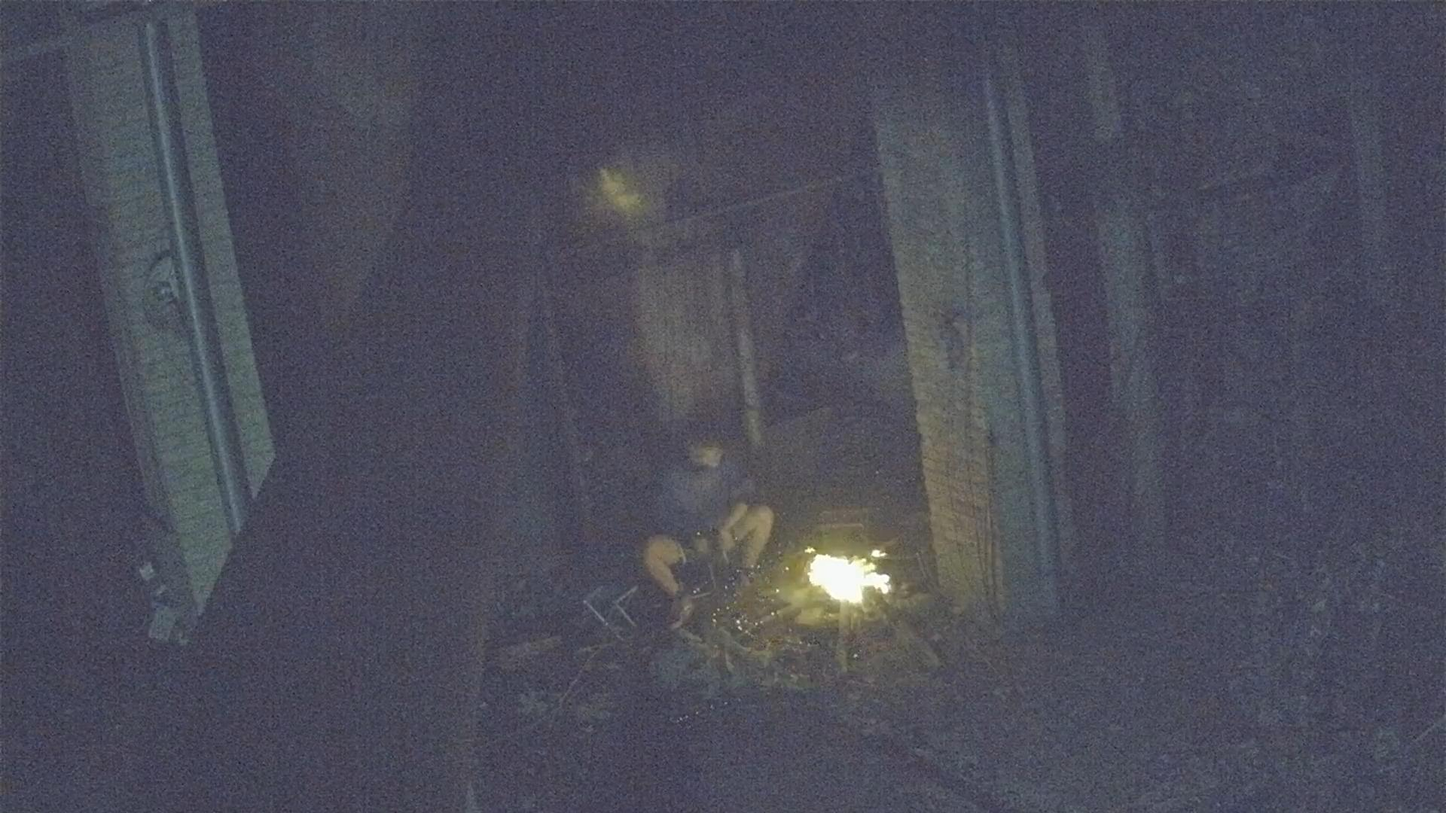fire: (810, 556, 886, 602)
